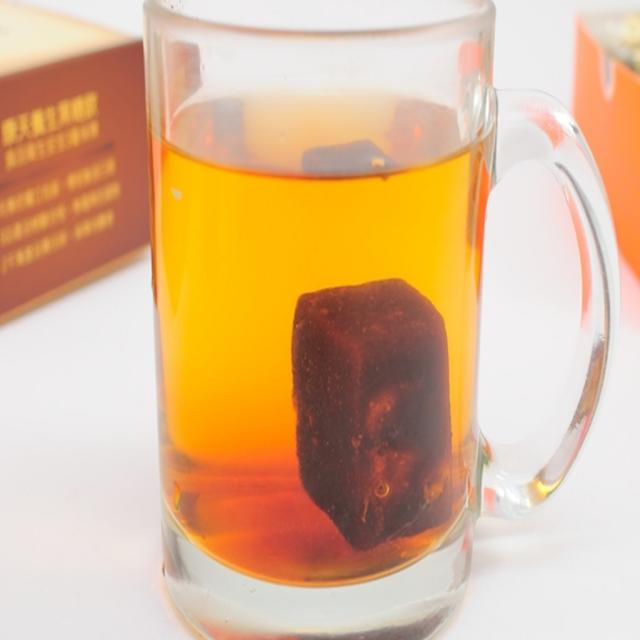Tea: (146, 84, 498, 586)
